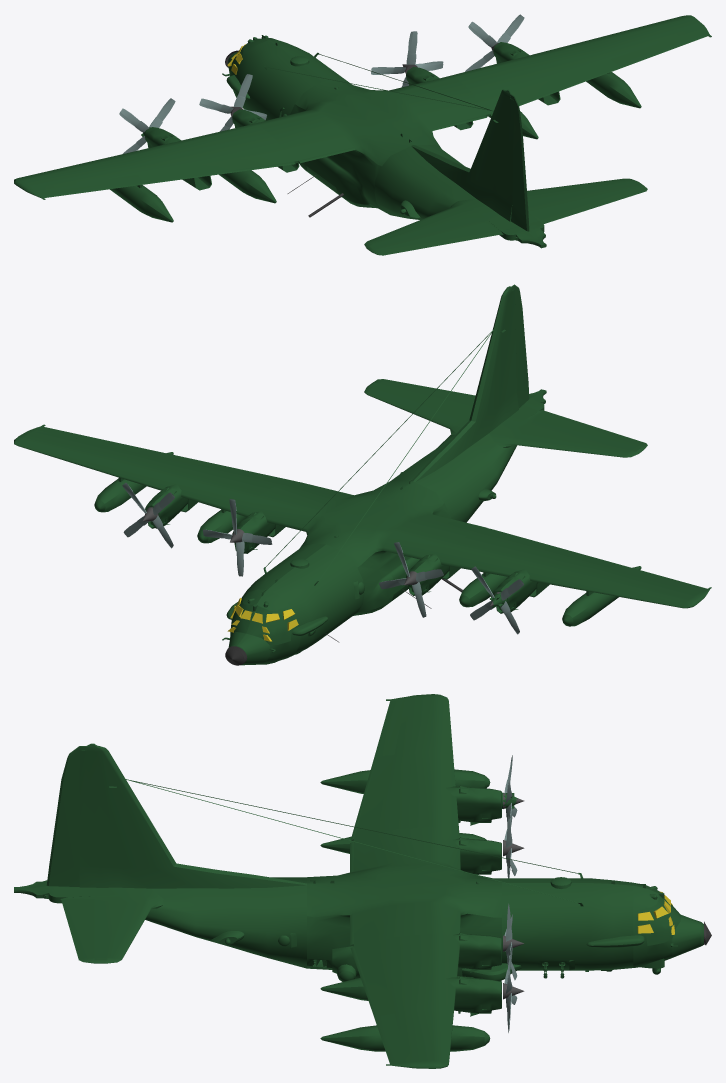
The model's file is ac130anim.fbx.
3 views of the same model, one above another, from view 1: azimuth 30°, elevation 25°; view 2: azimuth 150°, elevation 25°; view 3: azimuth 270°, elevation 25° (orthographic). The views are drawn at different scales.
Visible parts, largest first — view 1: fuselage; view 2: fuselage; view 3: fuselage.
Boxes of the visible parts, box(x1,y1,x2,y2) form: fuselage: box(14, 15, 711, 255); fuselage: box(14, 284, 711, 665); fuselage: box(14, 694, 703, 1068).
Size of the model in its own units: 354 by 99 by 280.
